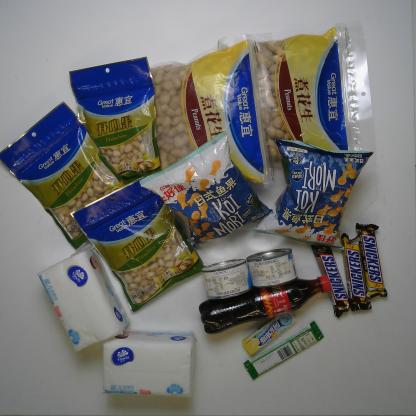Candy: (240, 305, 298, 360)
Canned Food: (200, 257, 255, 304), (244, 245, 298, 290)
Chocolate: (239, 320, 327, 381), (309, 239, 357, 322), (351, 219, 393, 302), (337, 229, 376, 315)
Dried Food: (215, 17, 385, 189), (141, 30, 289, 199)
Dried Fruit: (65, 169, 213, 317), (1, 96, 126, 258), (61, 53, 166, 190)
Drink: (195, 271, 335, 336)
Puffed Food: (135, 128, 278, 252), (250, 136, 378, 255)
Tissue: (34, 242, 134, 355), (96, 326, 200, 401)
